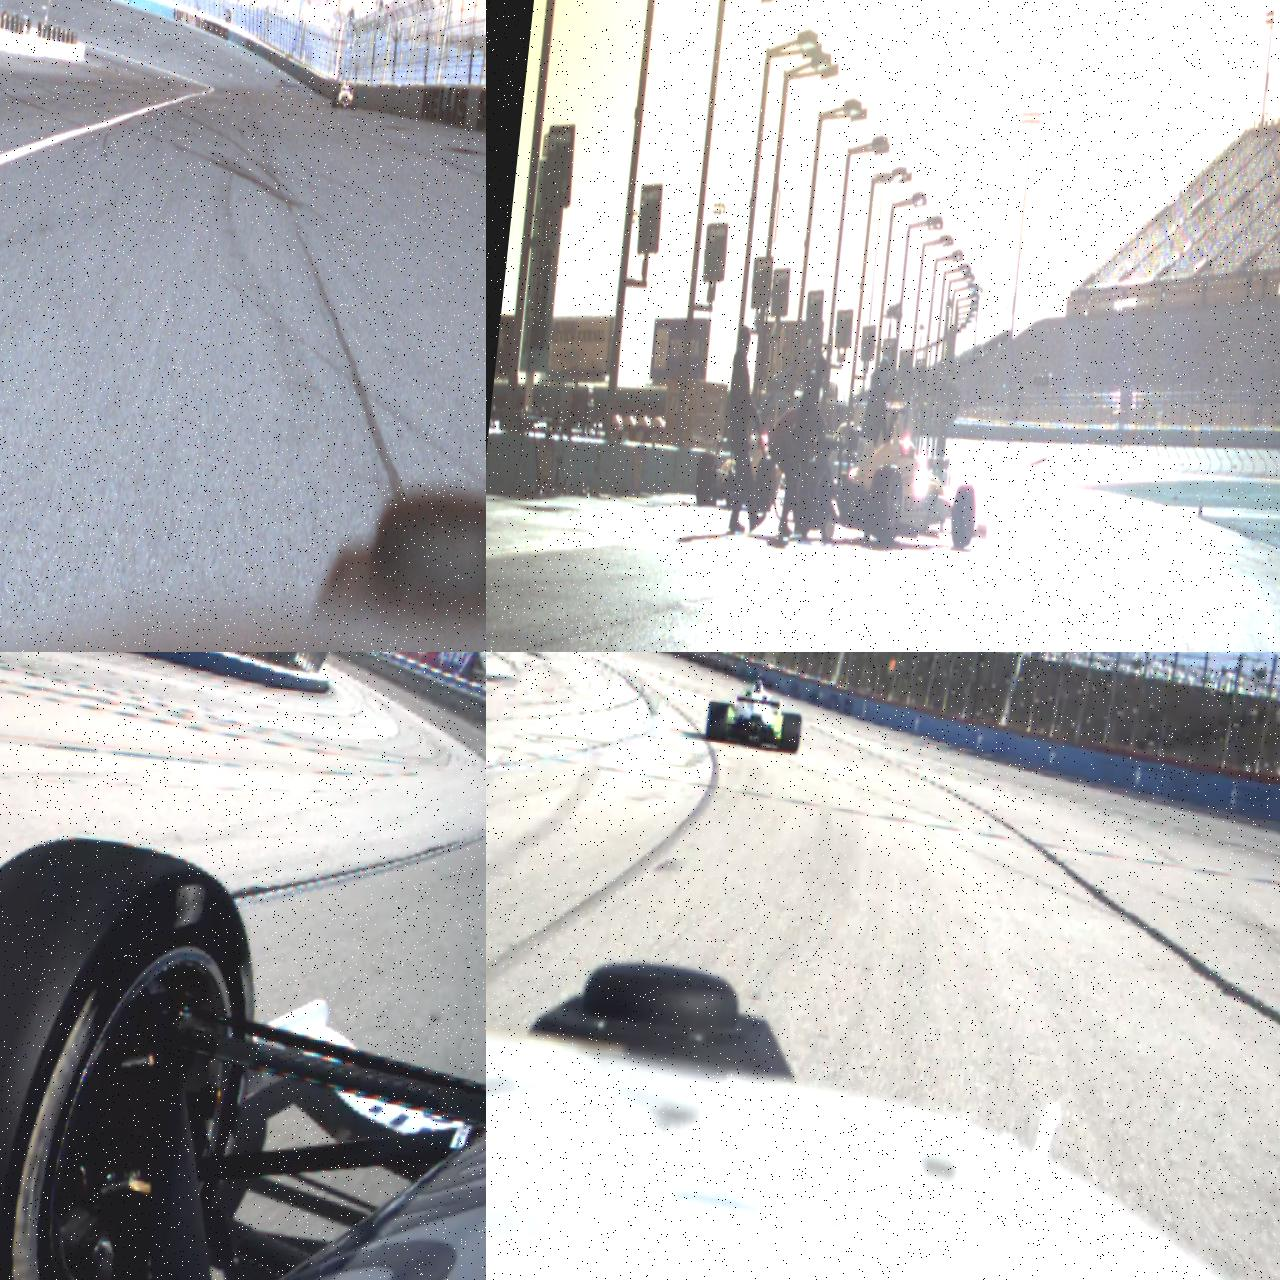AV: (794, 392, 999, 552), (704, 670, 807, 756), (332, 78, 359, 110)
Wheel: (0, 819, 273, 1280), (866, 463, 906, 542), (795, 462, 833, 531), (948, 484, 979, 550), (752, 457, 778, 513), (694, 452, 719, 505), (778, 711, 803, 755), (705, 701, 730, 743), (332, 92, 338, 109), (352, 96, 358, 110)
